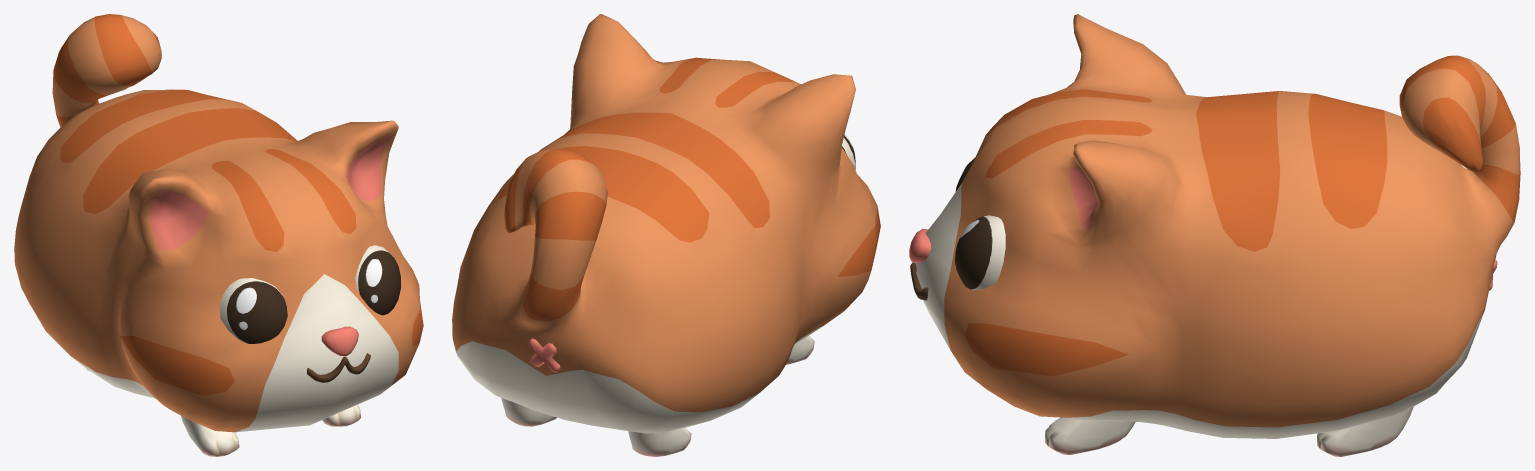
Rendered from cat.fbx.
3 views of the same model, side by side, from view 1: azimuth 30°, elevation 25°; view 2: azimuth 150°, elevation 25°; view 3: azimuth 270°, elevation 25° (orthographic). The views are drawn at different scales.
Visible parts, largest first — view 1: cat, cat_eyes; view 2: cat; view 3: cat, cat_eyes.
Part boxes in pixels (bbox=[...]): cat: bbox=[14, 14, 423, 456]; cat_eyes: bbox=[219, 245, 400, 343]; cat: bbox=[452, 14, 880, 456]; cat: bbox=[909, 14, 1520, 456]; cat_eyes: bbox=[955, 157, 1005, 290].
Bounding box in the file's own units: 1.07 × 1.15 × 1.8.
